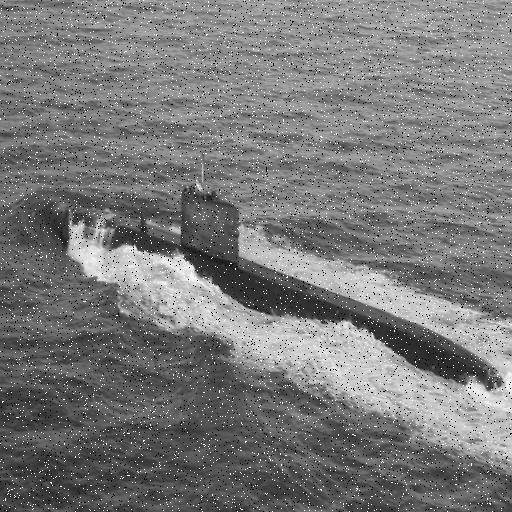submarine: (63, 191, 504, 390)
